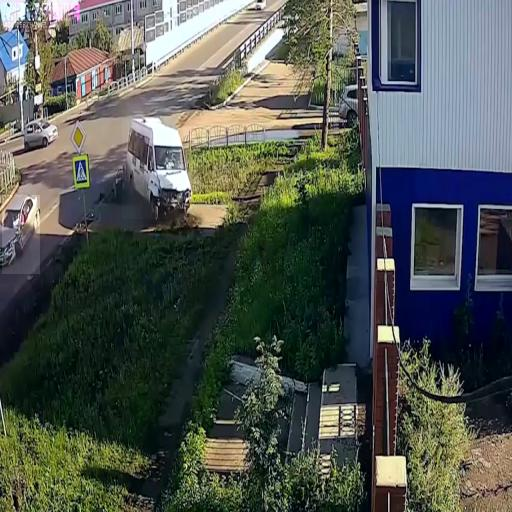小汽车: (122, 119, 192, 219), (2, 195, 40, 274), (22, 114, 56, 149)
